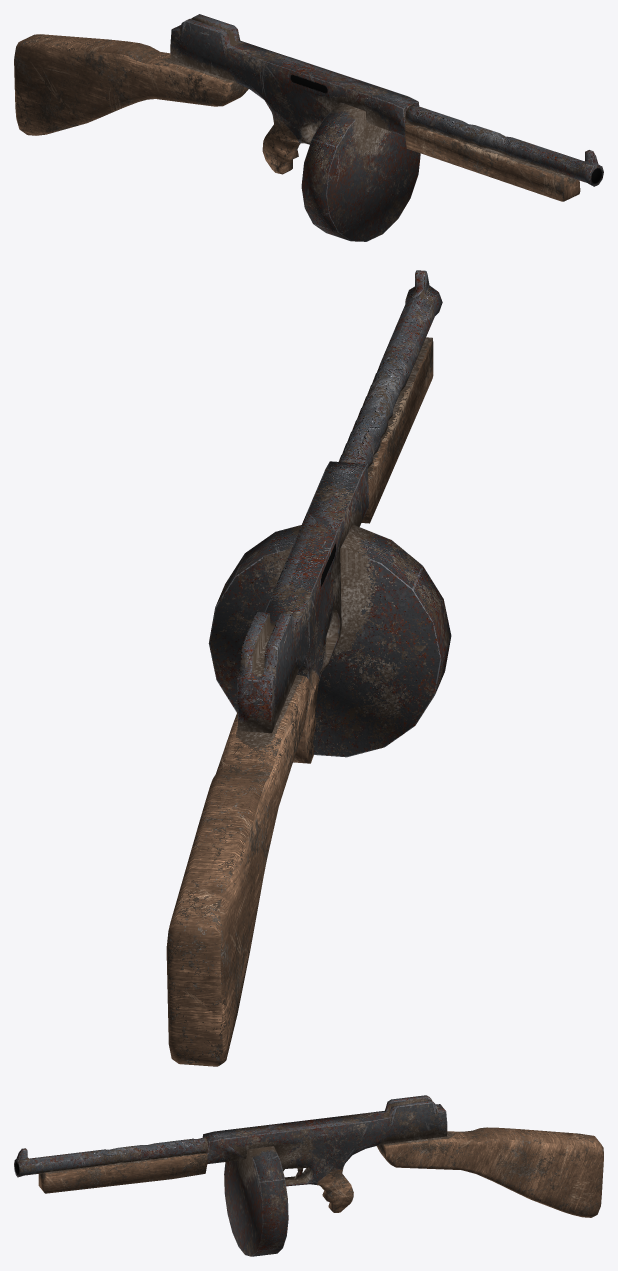
Rendered from Anim_disparar_ametralladora_objetos.0026.obj.
3 views of the same model, one above another, from view 1: azimuth 30°, elevation 25°; view 2: azimuth 150°, elevation 25°; view 3: azimuth 270°, elevation 25° (orthographic). The views are drawn at different scales.
Parts seen in each view (by area): view 1: Ametralladora1; view 2: Ametralladora1; view 3: Ametralladora1.
Boxes of the visible parts, x1,y1,x2,y2 form: Ametralladora1: [14, 14, 603, 241]; Ametralladora1: [166, 270, 451, 1066]; Ametralladora1: [14, 1095, 603, 1256].
Size of the model in its own units: 2.18 by 1.58 by 5.72.
